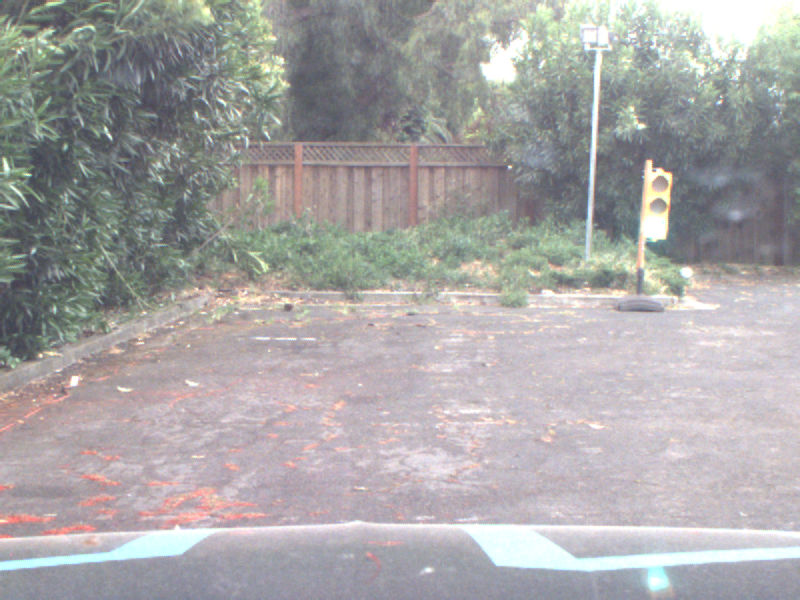Green: (643, 169, 669, 243)
